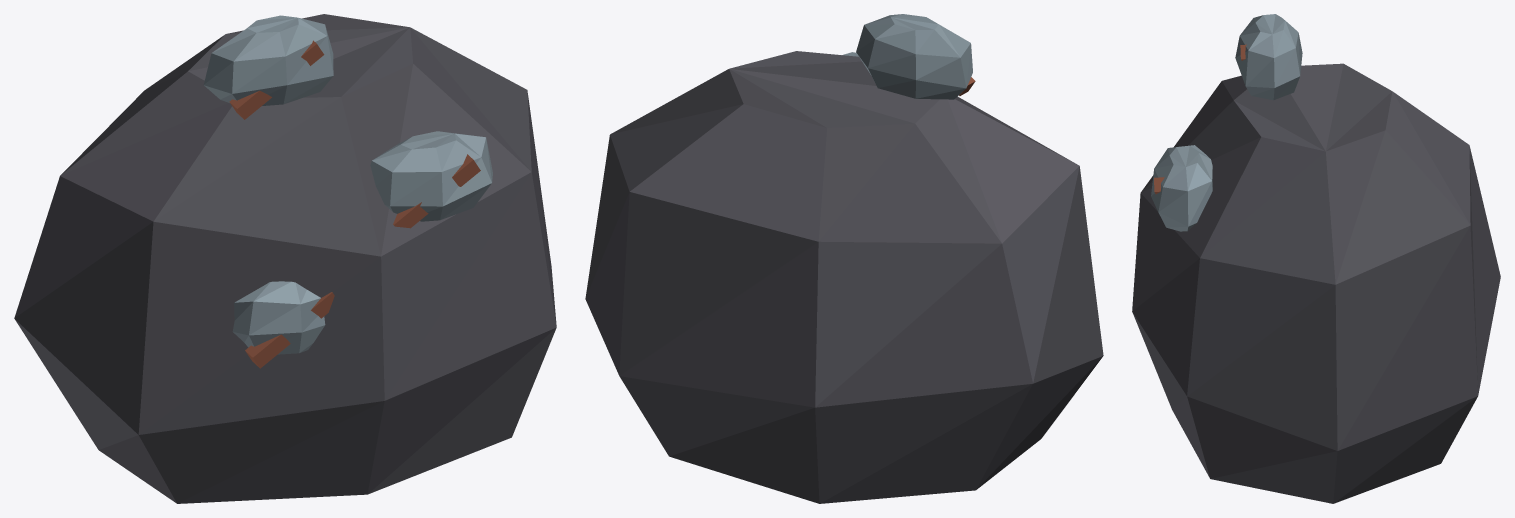
The model's file is iron_ore.glb.
3 views of the same model, side by side, from view 1: azimuth 30°, elevation 25°; view 2: azimuth 150°, elevation 25°; view 3: azimuth 270°, elevation 25° (orthographic). The views are drawn at different scales.
Parts seen in each view (by area): view 1: geometry; view 2: geometry; view 3: geometry.
Boxes of the visible parts, x1,y1,x2,y2 form: geometry: (14, 14, 556, 503); geometry: (585, 14, 1103, 503); geometry: (1132, 14, 1500, 503).
Size of the model in its own units: 0.4347 by 0.355 by 0.3197.
